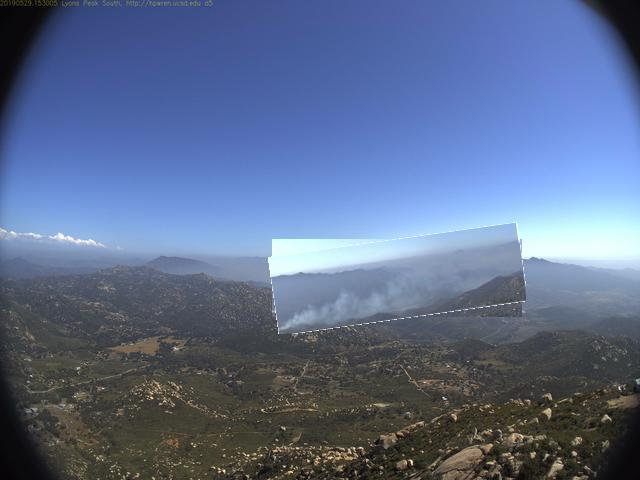smoke: (271, 232, 526, 328)
